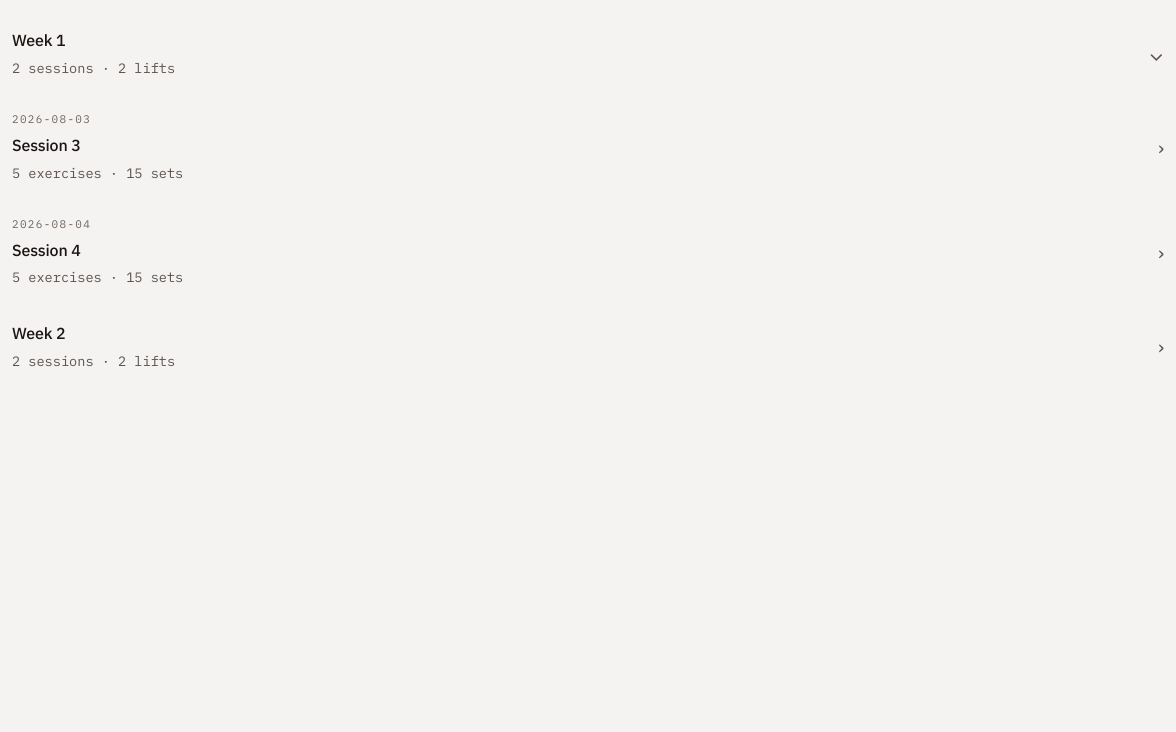
Test case: SessionList — collapsible weeks › opens a later week without closing the current one
Click the button "Week 2 2 sessions · 2 lifts ›" at (34, 333), box [12,305,1164,388]
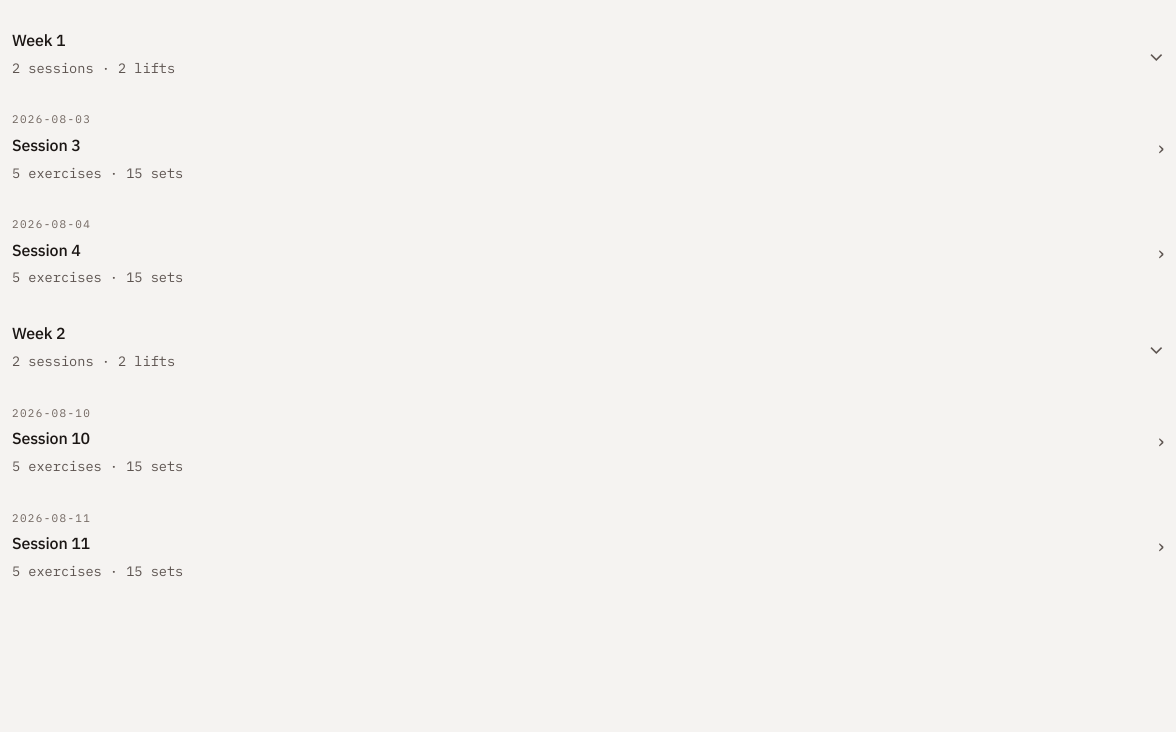
Expected: the text "Session 3" is shown, [12,135,81,155]
Expected: the text "Session 10" is shown, [12,428,90,448]
